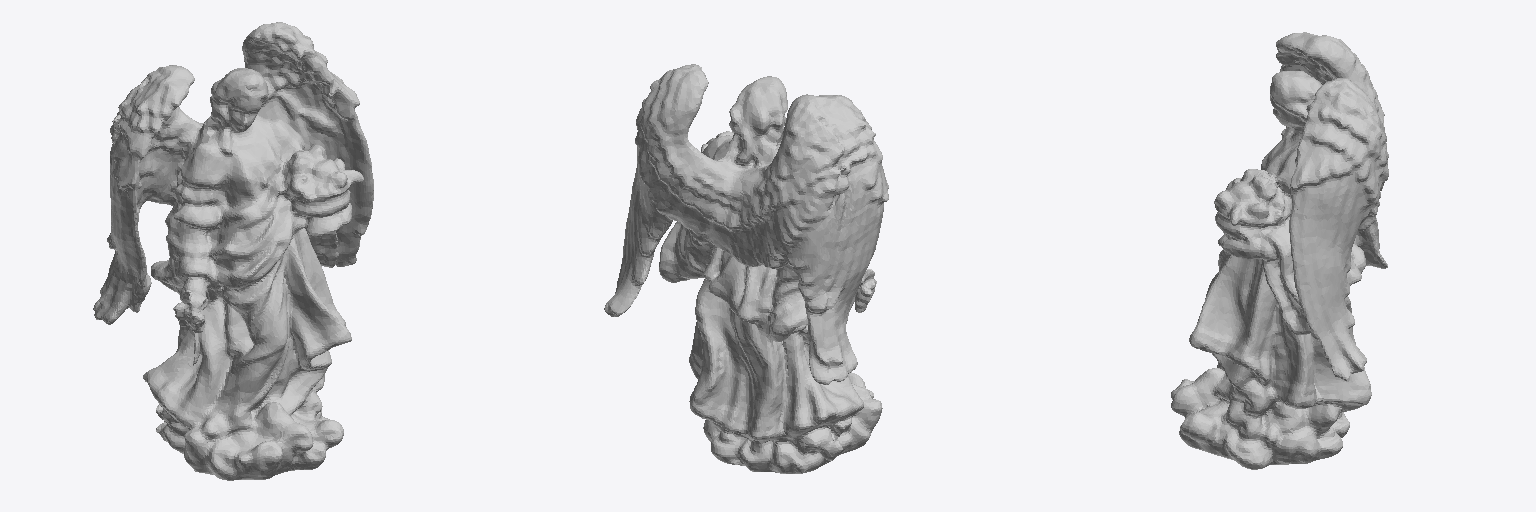
File: angel.obj
3 renders of one model, left to right at view 1: azimuth 30°, elevation 25°; view 2: azimuth 150°, elevation 25°; view 3: azimuth 270°, elevation 25°, orthographic.
Bounding box in the file's own units: 179 × 263 × 131.